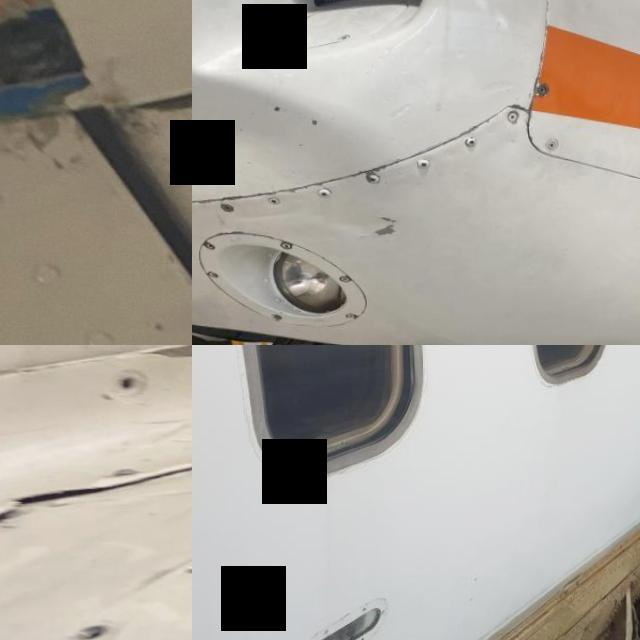Crack: (0, 480, 141, 508), (264, 467, 296, 494)
Dent: (480, 77, 515, 92), (387, 102, 412, 120), (404, 50, 426, 68), (420, 39, 434, 51), (384, 43, 399, 53), (397, 66, 415, 74), (455, 48, 466, 56), (400, 118, 410, 126), (376, 54, 386, 61), (414, 82, 424, 89), (287, 170, 298, 176), (339, 52, 347, 60), (369, 62, 376, 70), (381, 95, 389, 102), (263, 150, 271, 156), (376, 110, 384, 116), (394, 52, 402, 58), (352, 99, 361, 104), (237, 138, 244, 144), (338, 70, 345, 76), (236, 154, 244, 159), (276, 170, 282, 176), (344, 130, 350, 136), (242, 178, 248, 184), (412, 108, 418, 114), (436, 106, 442, 112), (246, 134, 253, 139), (254, 162, 262, 166), (255, 152, 261, 157), (344, 150, 349, 156), (259, 178, 266, 181), (218, 167, 224, 170), (238, 170, 242, 173)
Missing_Fastener: (110, 369, 150, 396), (78, 618, 108, 640), (179, 556, 192, 577)
